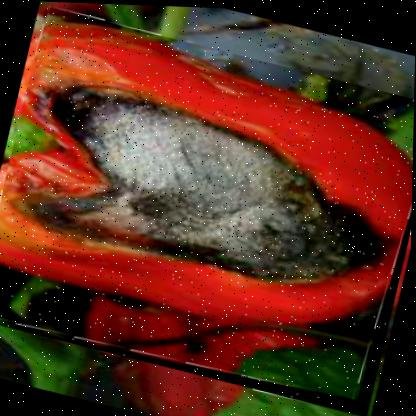capsicum_rotten: (0, 4, 415, 415)
